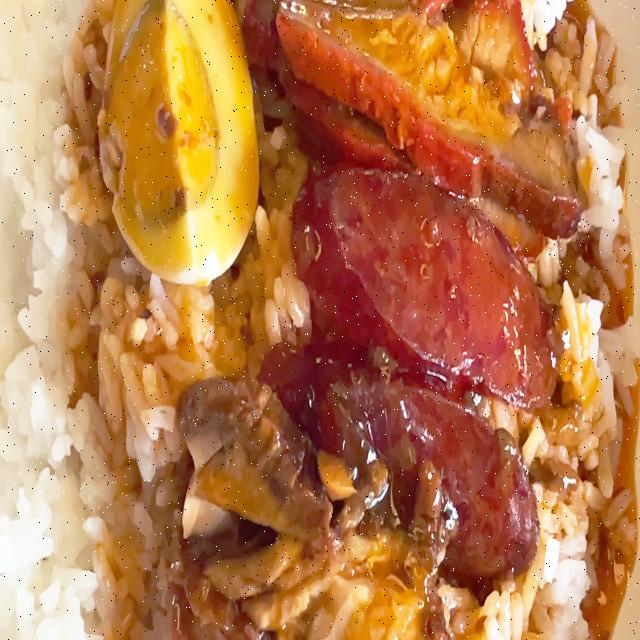boiled_egg: (115, 6, 247, 247)
chainese_sausage: (311, 190, 529, 524)
crispy_pork: (237, 537, 462, 640), (183, 368, 300, 526)
red_pork: (278, 0, 555, 206)
red_pork_and_crispy_pork: (0, 0, 640, 640)
rice: (0, 0, 110, 640), (554, 301, 640, 640), (112, 280, 175, 640)
